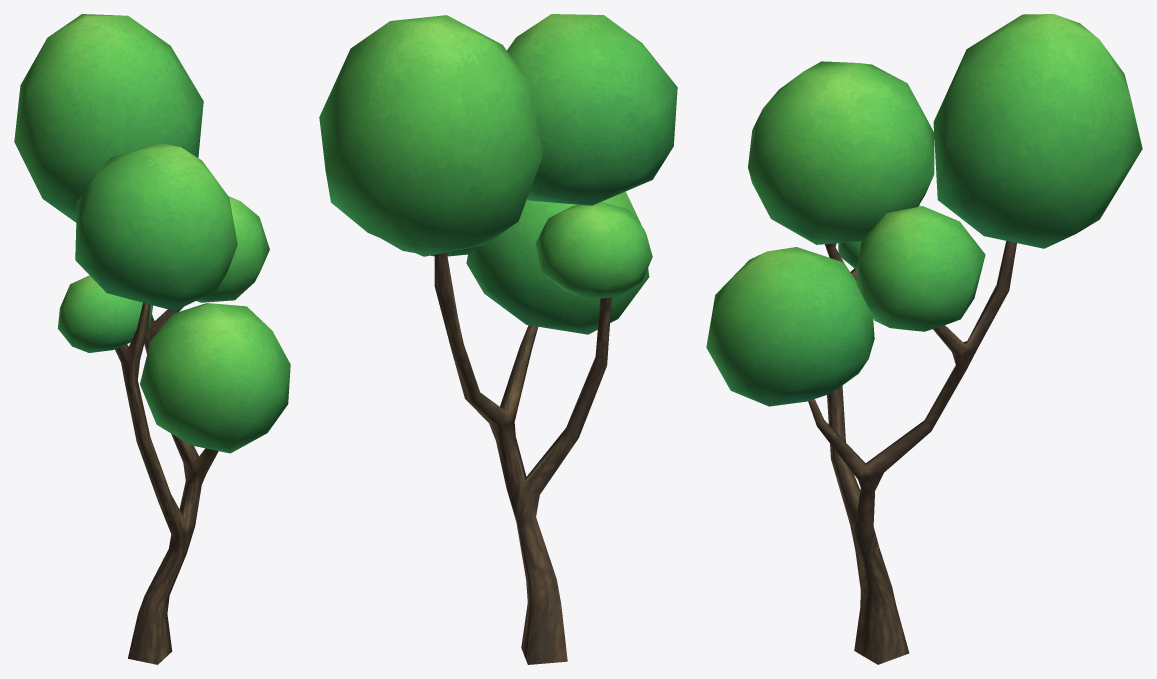
The model's file is Tree_Oak_7.fbx.
3 renders of one model, left to right at view 1: azimuth 30°, elevation 25°; view 2: azimuth 150°, elevation 25°; view 3: azimuth 270°, elevation 25°, orthographic. The views are drawn at different scales.
Parts seen in each view (by area): view 1: Icosphere.050, Icosphere.056, Icosphere.058, Cube.085, Icosphere.055, Icosphere.057; view 2: Icosphere.050, Icosphere.056, Cube.085, Icosphere.058, Icosphere.055; view 3: Icosphere.050, Icosphere.056, Icosphere.058, Cube.085, Icosphere.057.
Part boxes in pixels (left/top/right/bottom): Icosphere.050: left=14, top=14, right=203, bottom=222; Icosphere.056: left=75, top=143, right=237, bottom=310; Icosphere.058: left=140, top=303, right=290, bottom=453; Cube.085: left=115, top=303, right=218, bottom=664; Icosphere.055: left=57, top=275, right=153, bottom=352; Icosphere.057: left=196, top=196, right=269, bottom=302; Icosphere.050: left=319, top=15, right=543, bottom=256; Icosphere.056: left=507, top=14, right=677, bottom=205; Cube.085: left=434, top=252, right=611, bottom=664; Icosphere.058: left=466, top=191, right=649, bottom=334; Icosphere.055: left=535, top=202, right=652, bottom=299; Icosphere.050: left=933, top=14, right=1142, bottom=248; Icosphere.056: left=748, top=61, right=934, bottom=244; Icosphere.058: left=706, top=247, right=874, bottom=406; Cube.085: left=808, top=241, right=1016, bottom=664; Icosphere.057: left=856, top=206, right=985, bottom=331.
Size of the model in its own units: 295 by 768 by 469.
2 materials, 2 textured.
